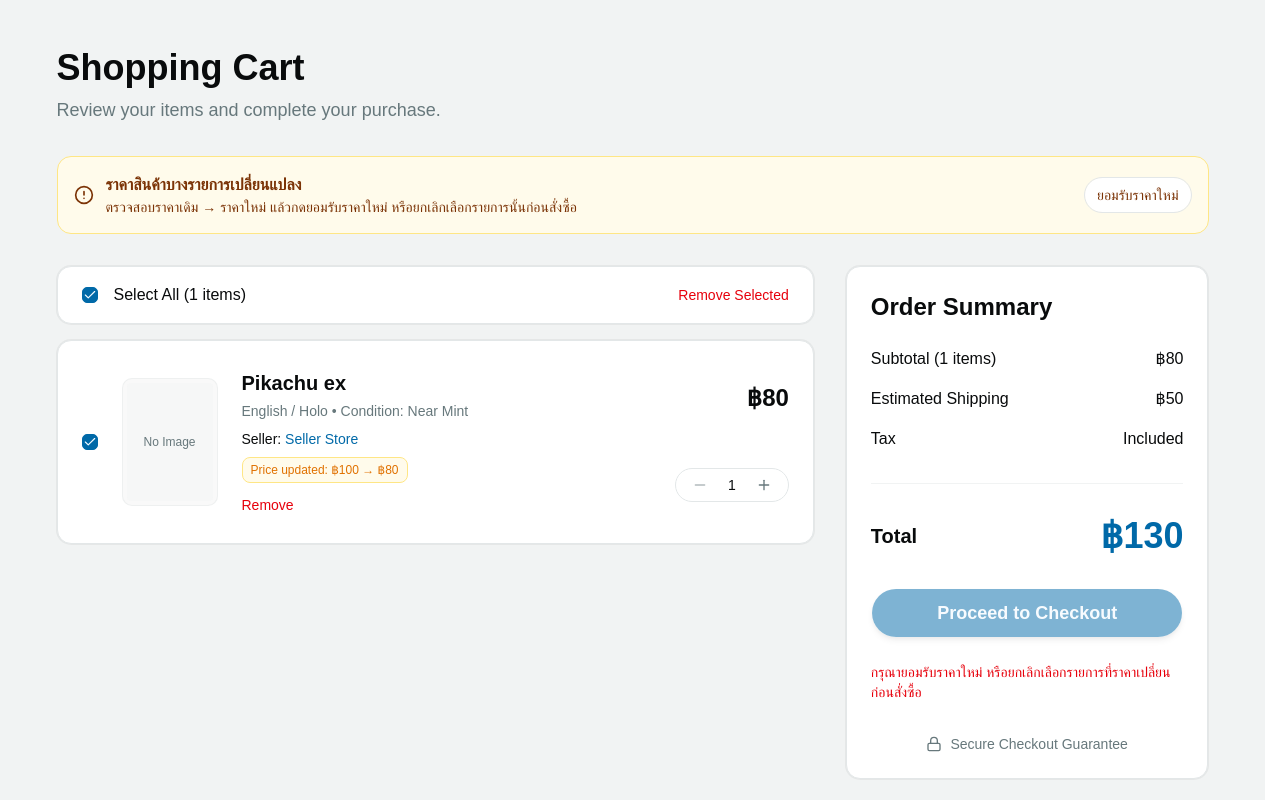
Test: CartPage item details › requires explicit acceptance of a changed price (80) before checkout
This screenshot has width=1280, height=800.
Expected: the text "ราคาสินค้าบางรายการเปลี่ยนแปลง" is shown, [106,176,301,193]
Expected: the button "Proceed to Checkout" is disabled, [871,588,1184,638]
Click the button "ยอมรับราคาใหม่" at {"x": 1138, "y": 195}, box [1084,177,1192,213]
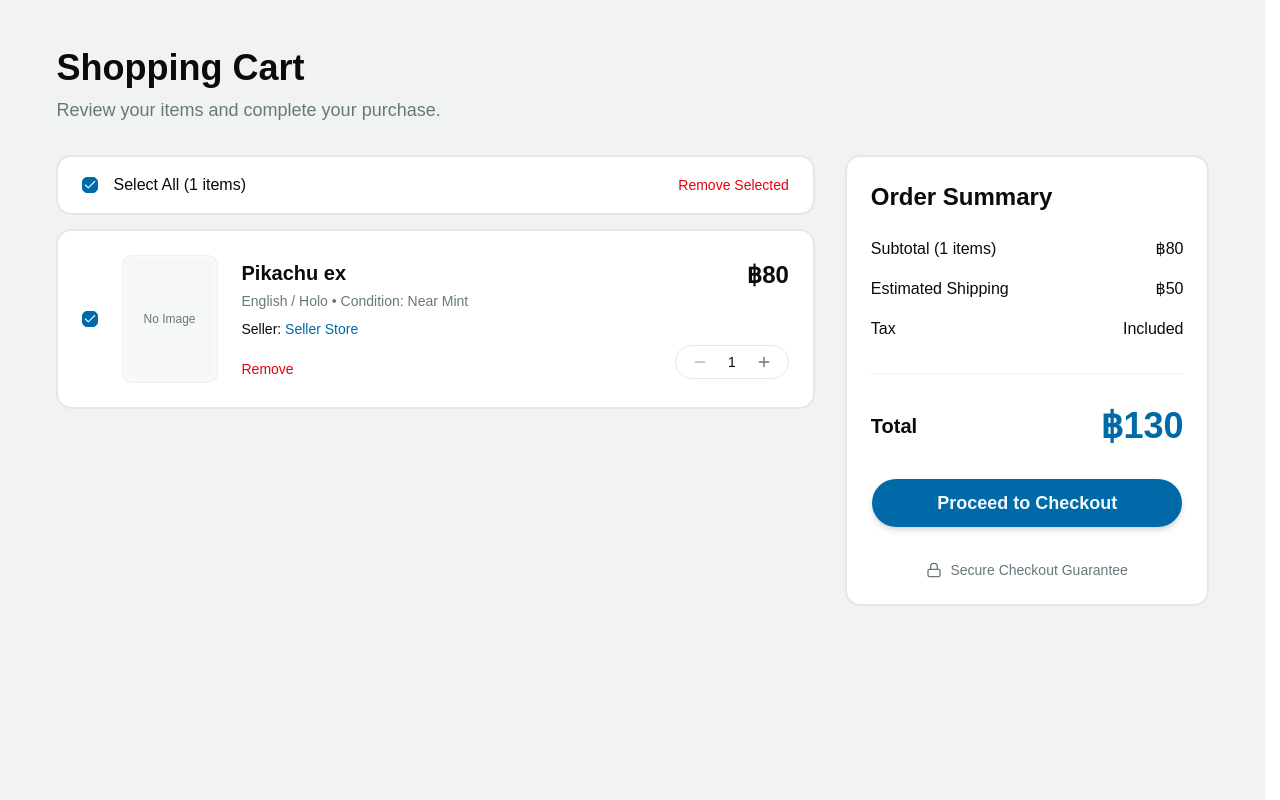
Expected: the button "Proceed to Checkout" is enabled, [871,478,1184,528]
Expected: the text "Price updated:" is gone
Expected: the text "ยอมรับราคาใหม่" is gone
